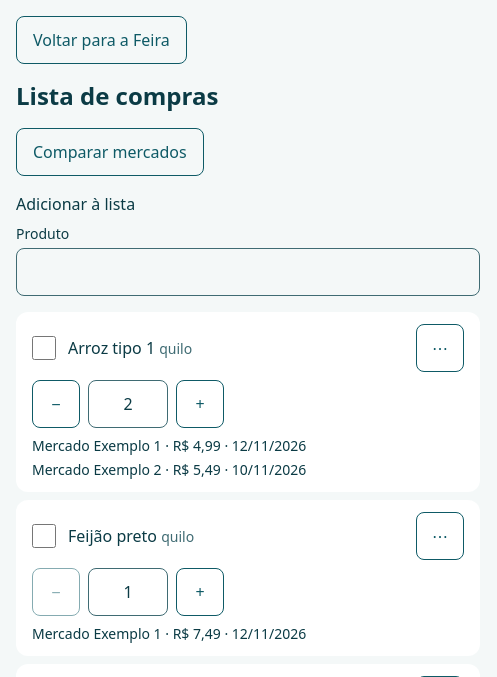
Test: ShoppingListPage › addRefusalSaysWhy list.quantity_too_large
Expected: the text "Arroz tipo 1" is shown, left=68, top=337, right=155, bottom=359
Type "leite" into the field labelled "Produto". click: (248, 272)
box: left=16, top=248, right=480, bottom=296
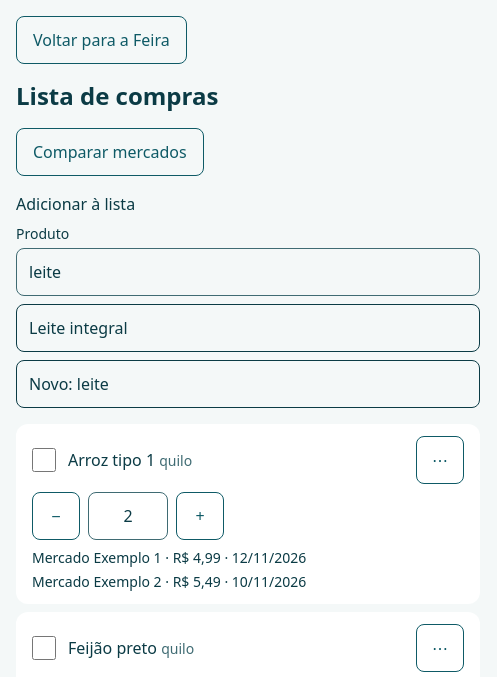
Click the button "Leite integral". click: (78, 328)
box: left=16, top=304, right=480, bottom=352
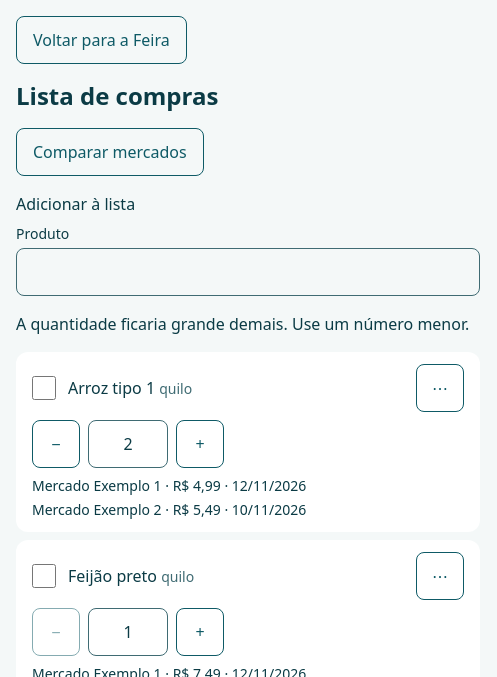
Now the text "A quantidade ficaria grande demais. Use um número menor." is shown, box left=16, top=312, right=480, bottom=336
